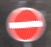No entry: (5, 5, 46, 42)
